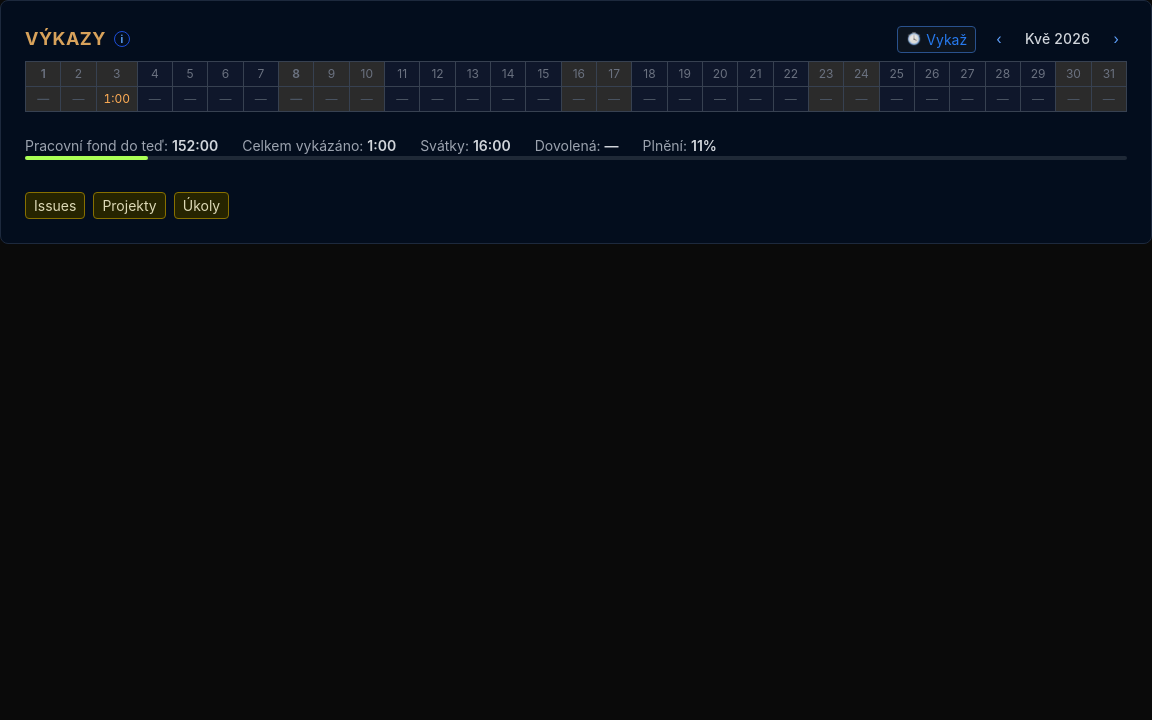
Scenario: WorklogsSection monthly issues › po kliknutí na issue řádek rozbalí detailní worklogy
Click the button with aria-label "Issues v tomto měsíci". click: {"x": 55, "y": 206}
box: [25,192,85,219]
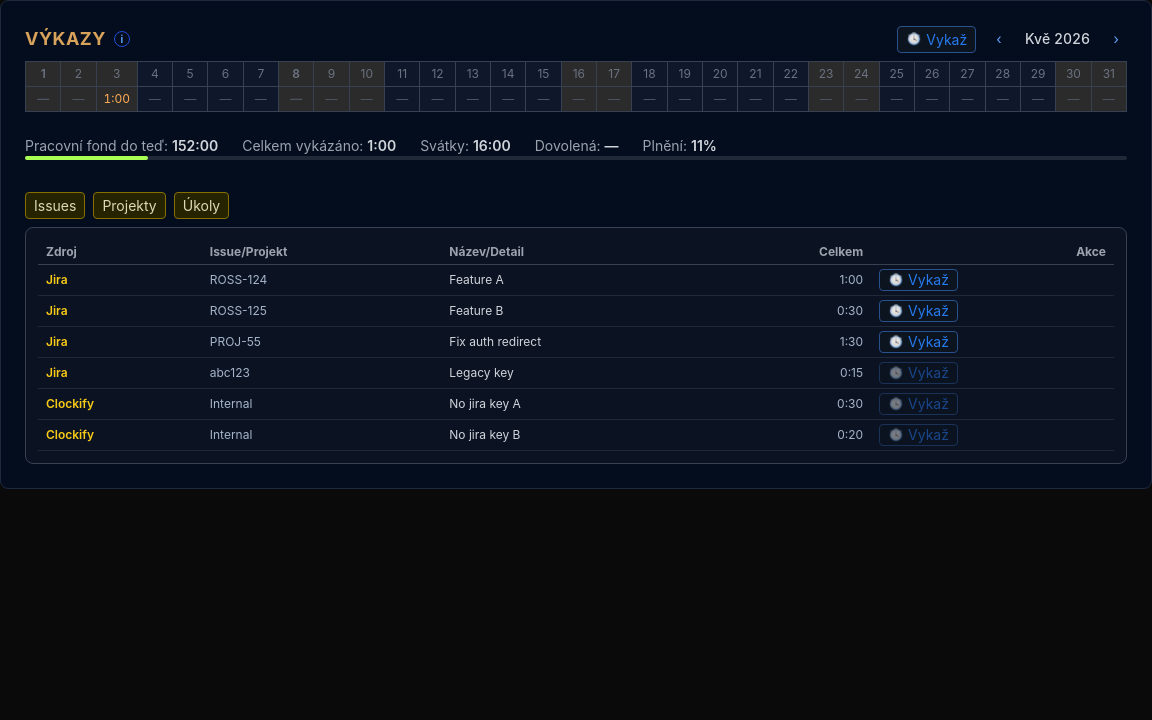
Expected: the text "ROSS-124" is shown
Click the text "ROSS-124". click: {"x": 239, "y": 280}
box: [202,264,441,296]
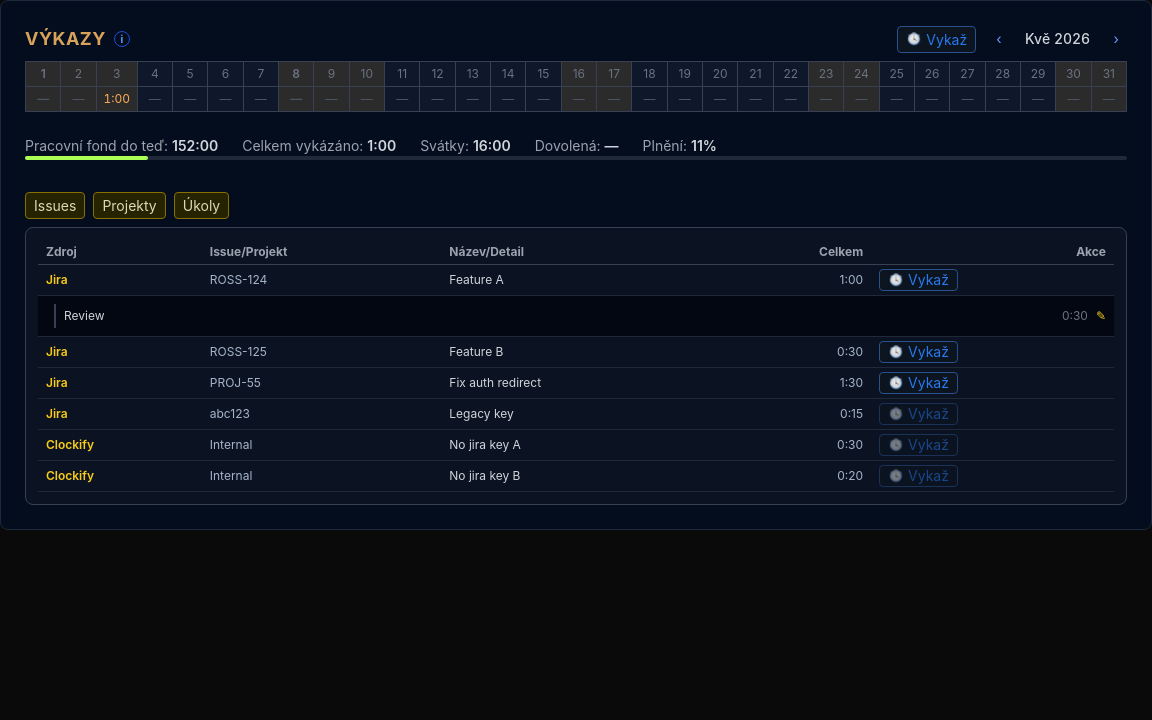
Expected: the text "Review" is shown, [64,308,105,323]
Expected: the button titled "Upravit výkaz" is shown, [1096,308,1106,324]
